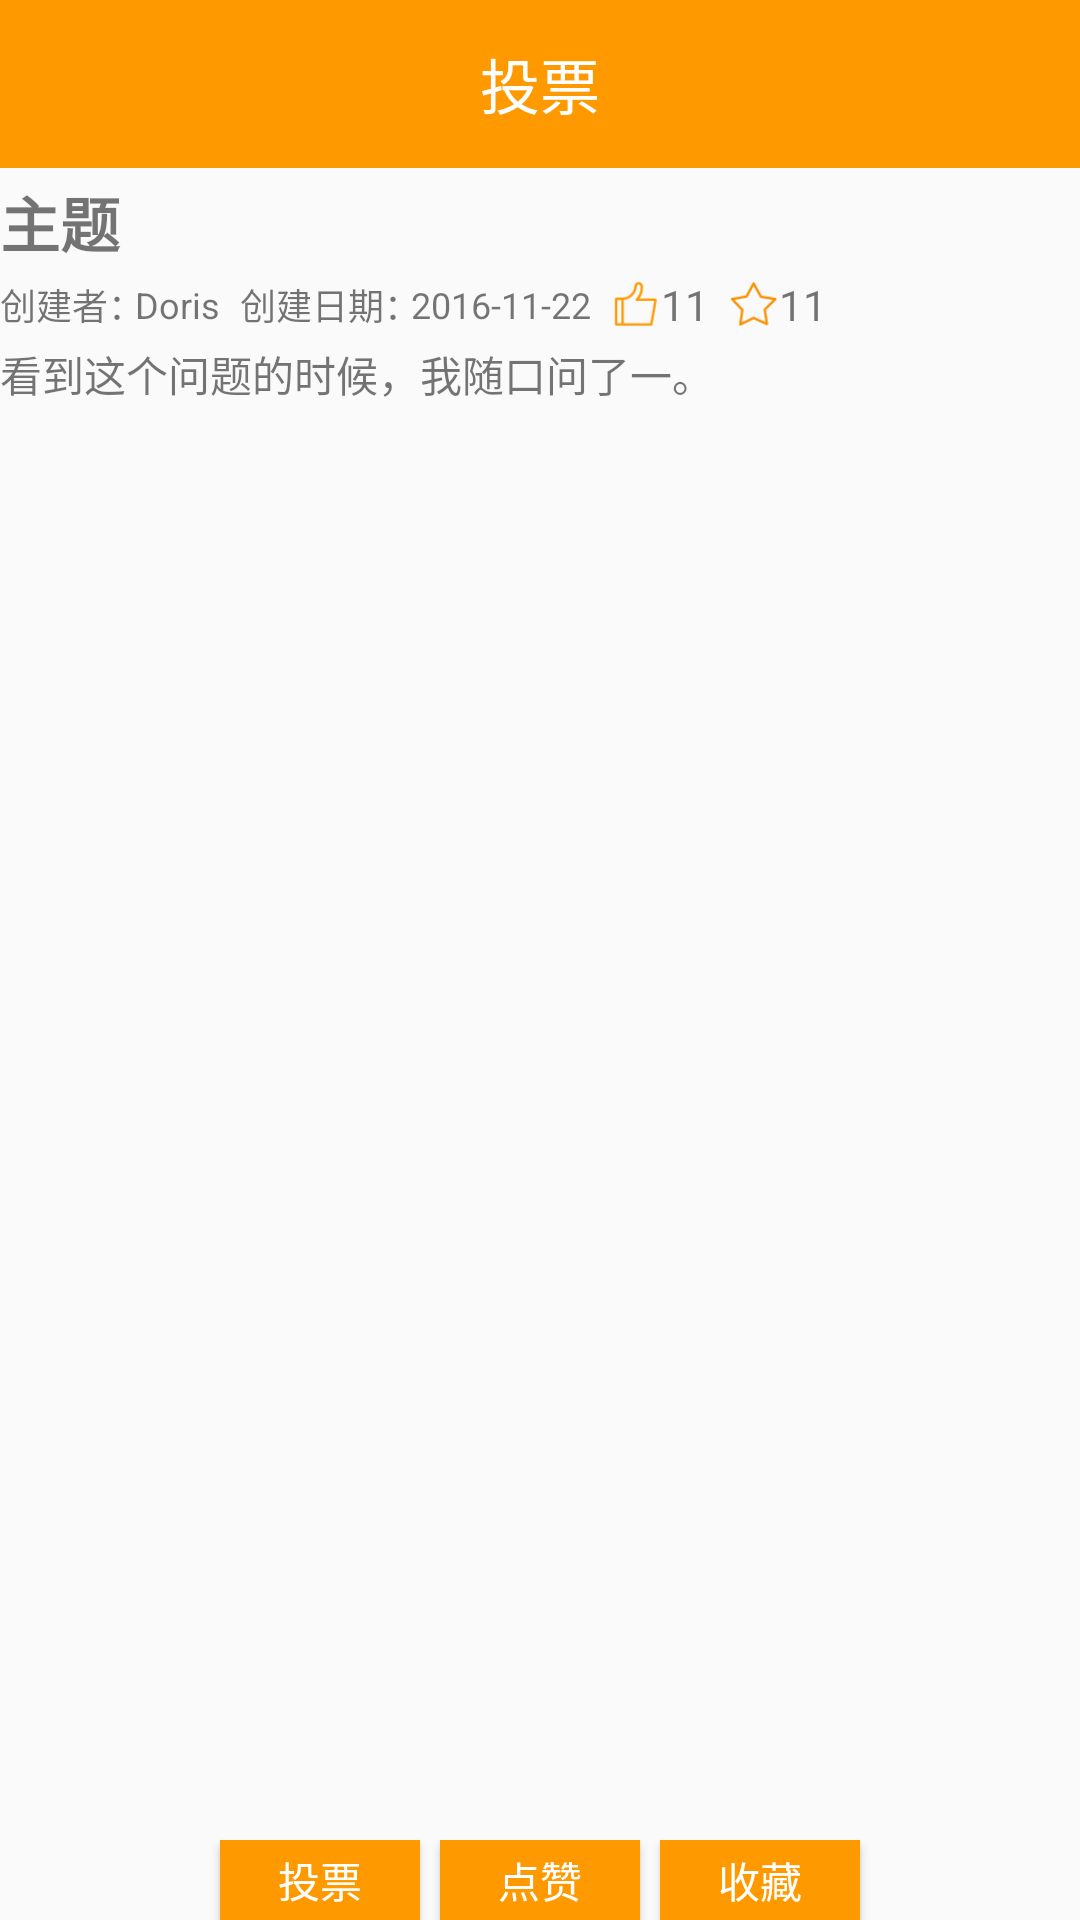

Screen size 1080 × 1920. Icon name, then its box in pixels as region(x1, y1, x2, y2):
favorite: region(731, 282, 777, 326)
good: region(614, 282, 657, 326)
